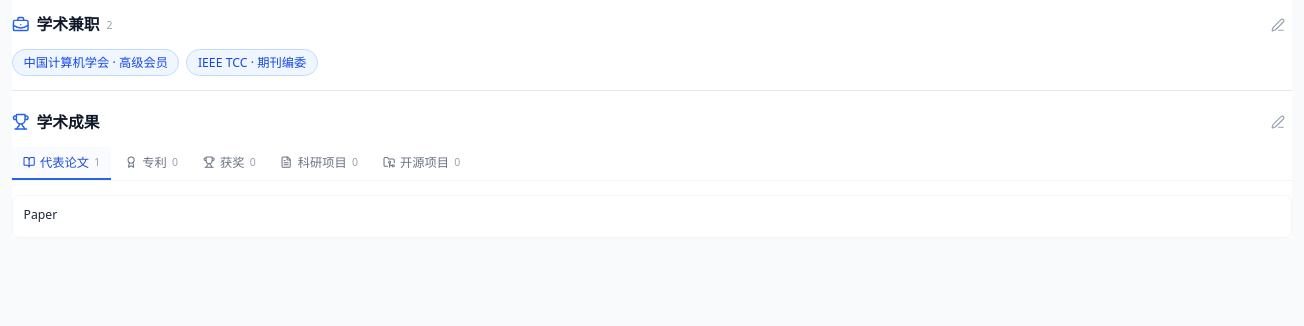
Test: AchievementsDetailCard › shows collection errors explicitly and allows retry
Click the button "开源项目 0".
click(422, 163)  # box [372,146,471,180]
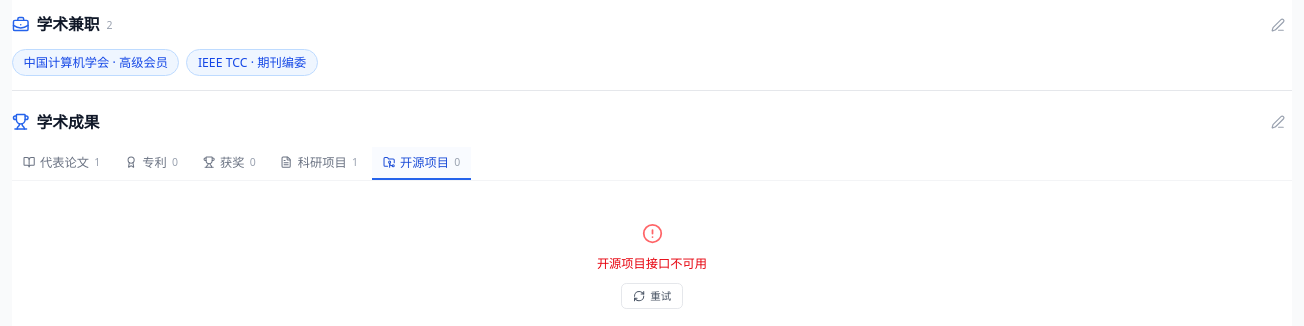
Now the text "开源项目接口不可用" is shown, box [597,254,707,272]
Click the button with aria-label "重试开源项目".
click(652, 296)  # box [621,282,683,309]
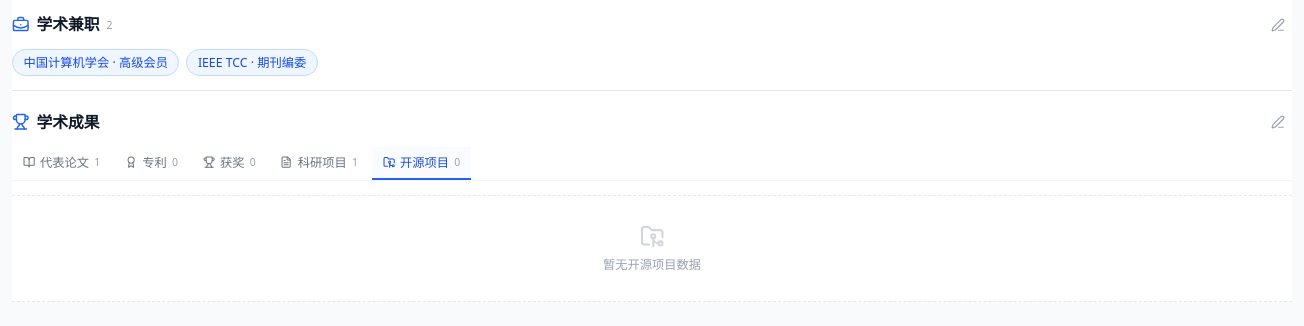
Now the text "暂无开源项目数据" is shown, box [603,256,701,272]
